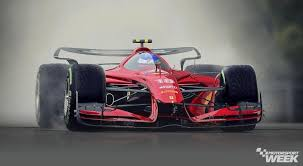f1_car: (30, 36, 271, 136)
